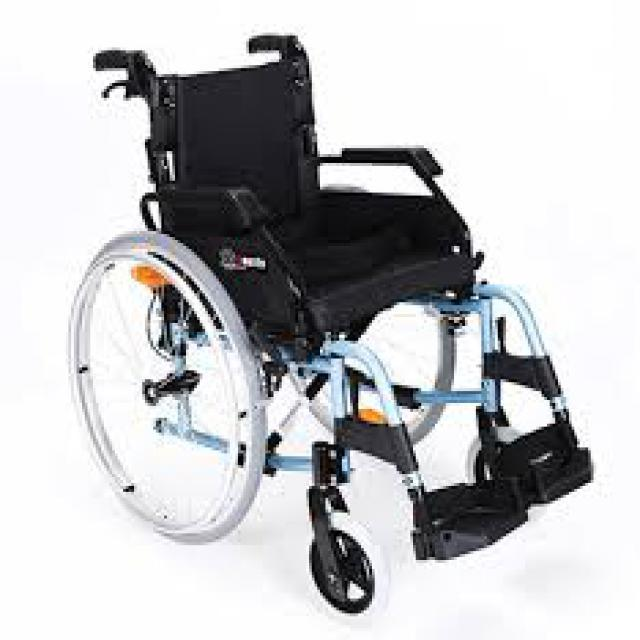wheelchair: (62, 23, 616, 610)
